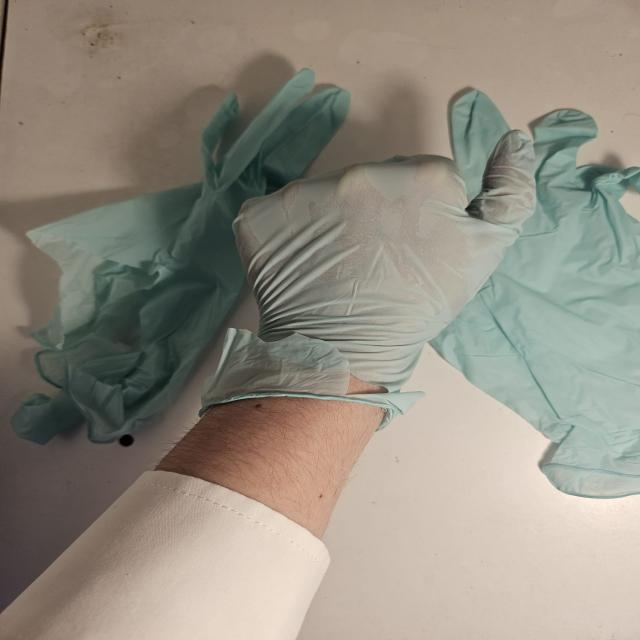gloves_damaged: (194, 129, 541, 429)
